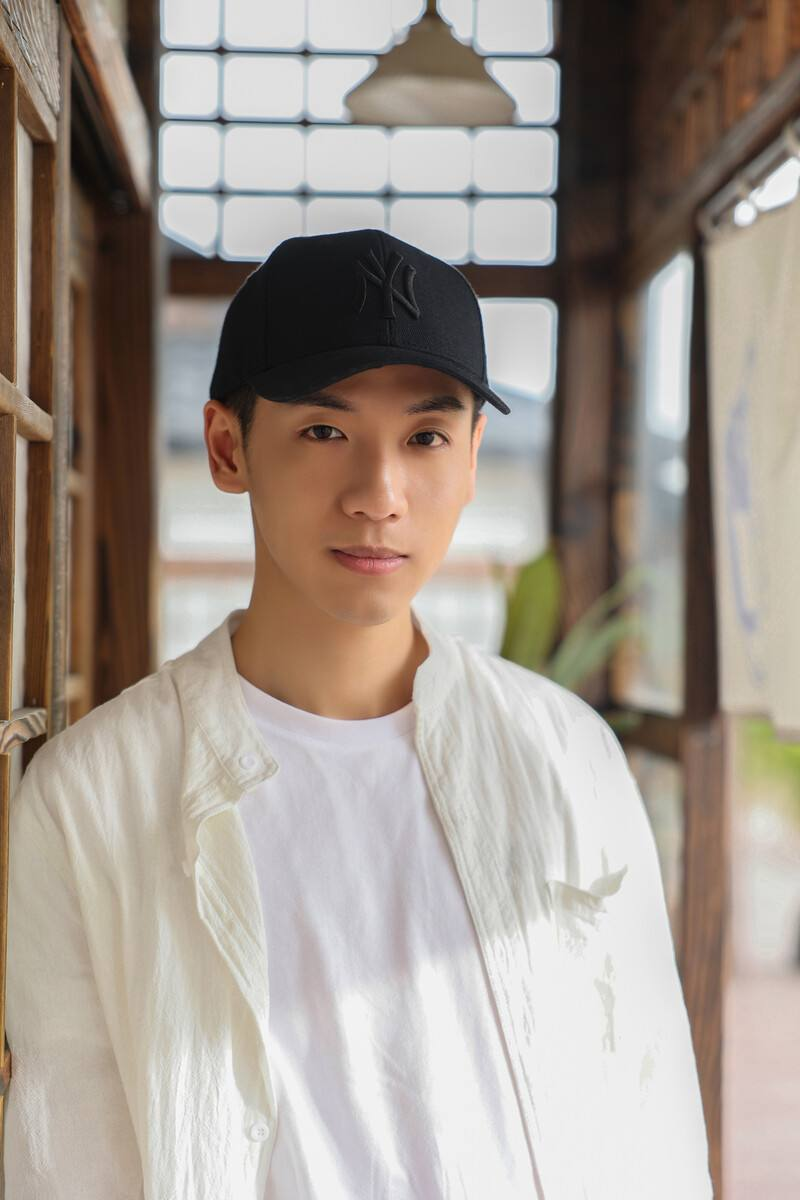person: (187, 149, 676, 1200)
